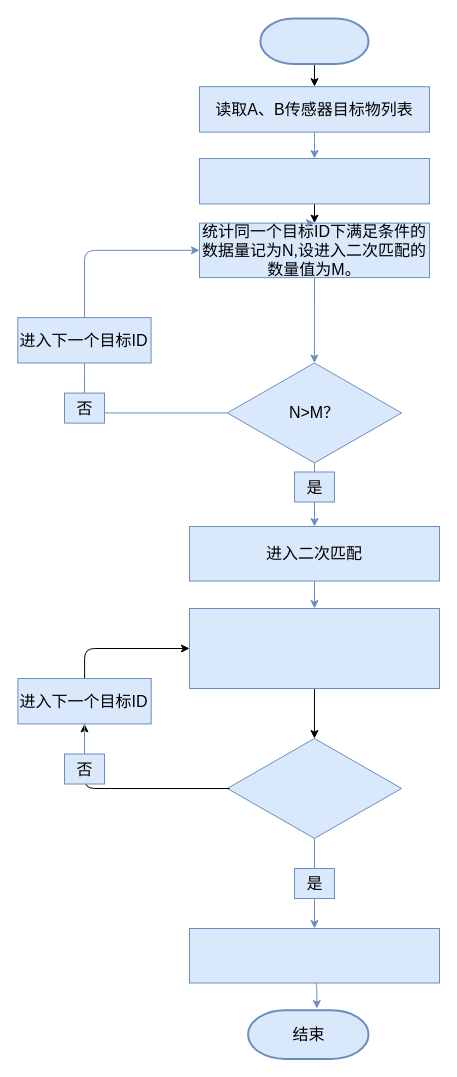
This 457x1077 diagram has some shape labels left out. The shapes that lost their labels are listed below. From the top down, each one's centre as x and y in pixels, then its label:
[314,40]: 开始
[314,181]: 基于时间戳、横纵向位置，选取符合条件的目标进行一次匹配
[314,648]: 计算A、B传感器同一个匹配目标ID下所有数据的横纵向距离标准差E，设满足条件的标准差范围为L-H
[314,788]: L<E<H
[314,955]: 匹配成功，保存A、B传感器的匹配关系
